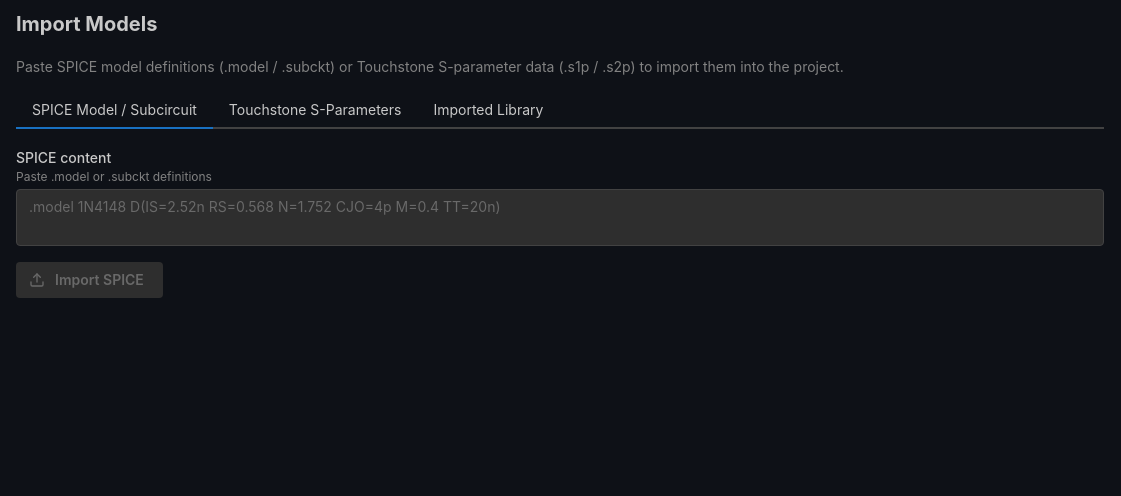
ImportModelsScreen › selecting a model from list shows details
The width and height of the screenshot is (1121, 496).
Click the tab "Imported Library": [488, 111] box x1=417 y1=93 x2=559 y2=129
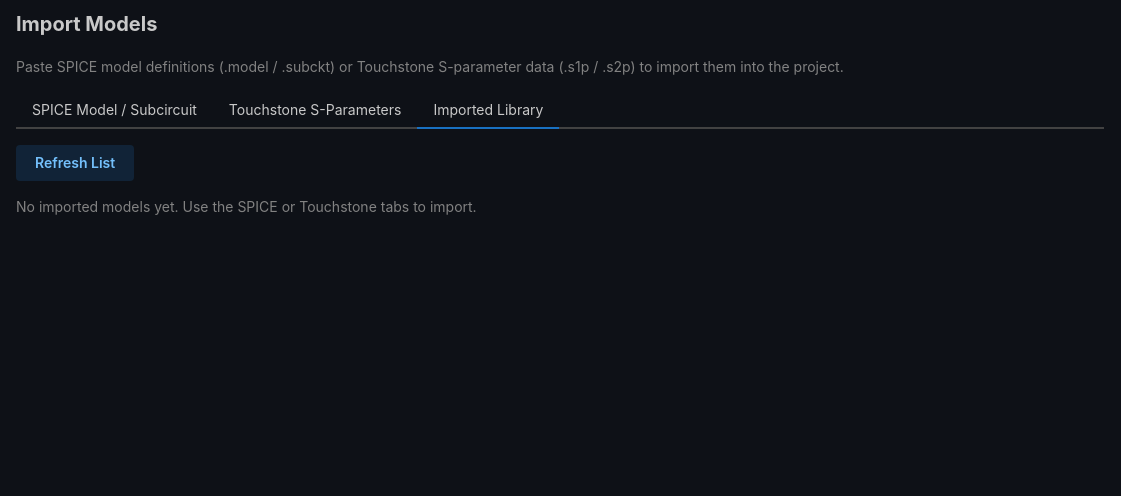
Click the button "Refresh List": [75, 163] box x1=16 y1=145 x2=134 y2=181
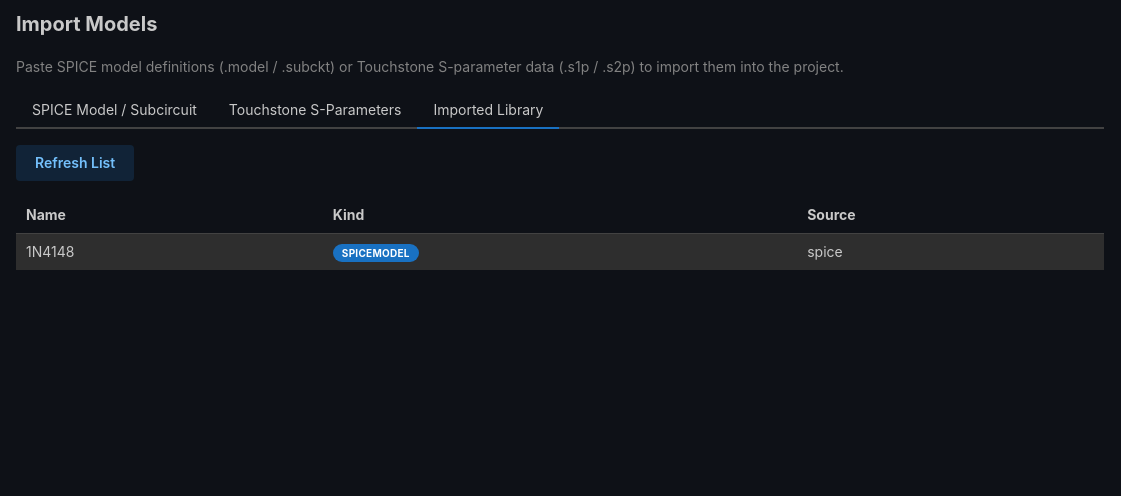
Click the row with test id "model-row-model-1": [560, 252] box x1=16 y1=234 x2=1104 y2=270
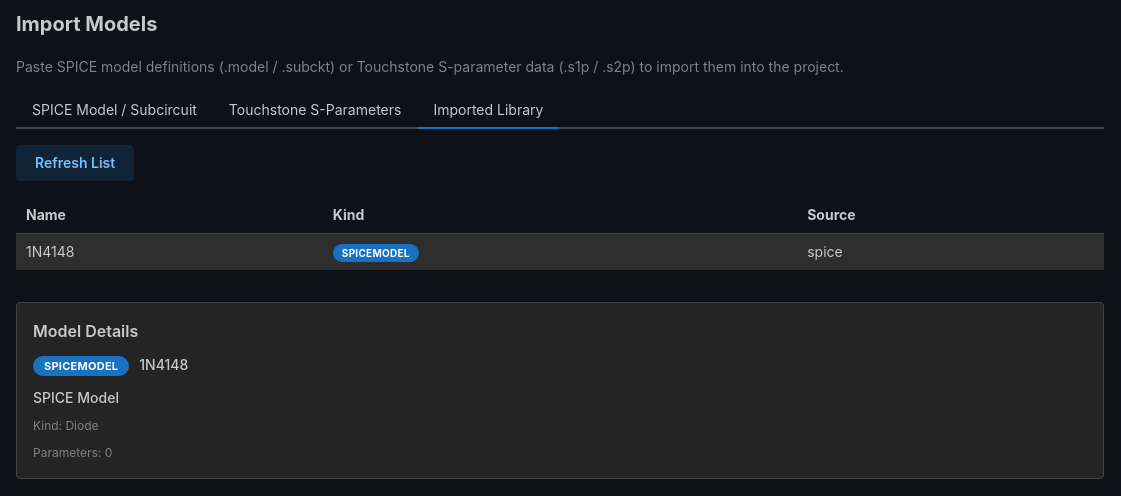
Check: the text "Model Details" is shown, box x1=33 y1=321 x2=138 y2=341
Check: the element with test id "spice-model-details" is shown, box x1=33 y1=389 x2=119 y2=460
